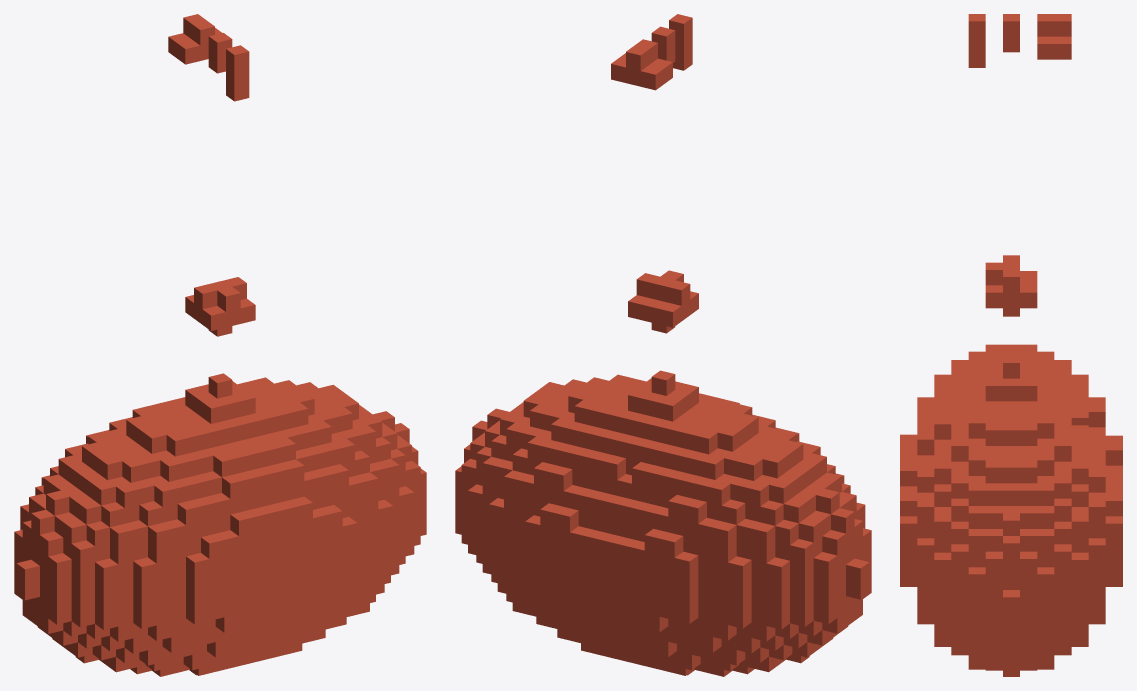
Rendered from label3.obj.
The picture shows the model from 3 angles, left to right: view 1: azimuth 30°, elevation 25°; view 2: azimuth 150°, elevation 25°; view 3: azimuth 270°, elevation 25°; orthographic projection.
Size of the model in its own units: 27 by 40 by 13.
